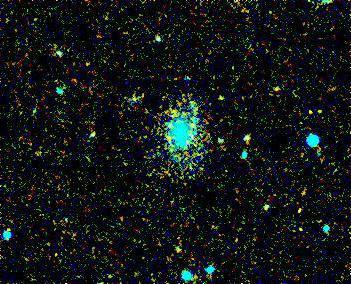star: (207, 83, 237, 113)
